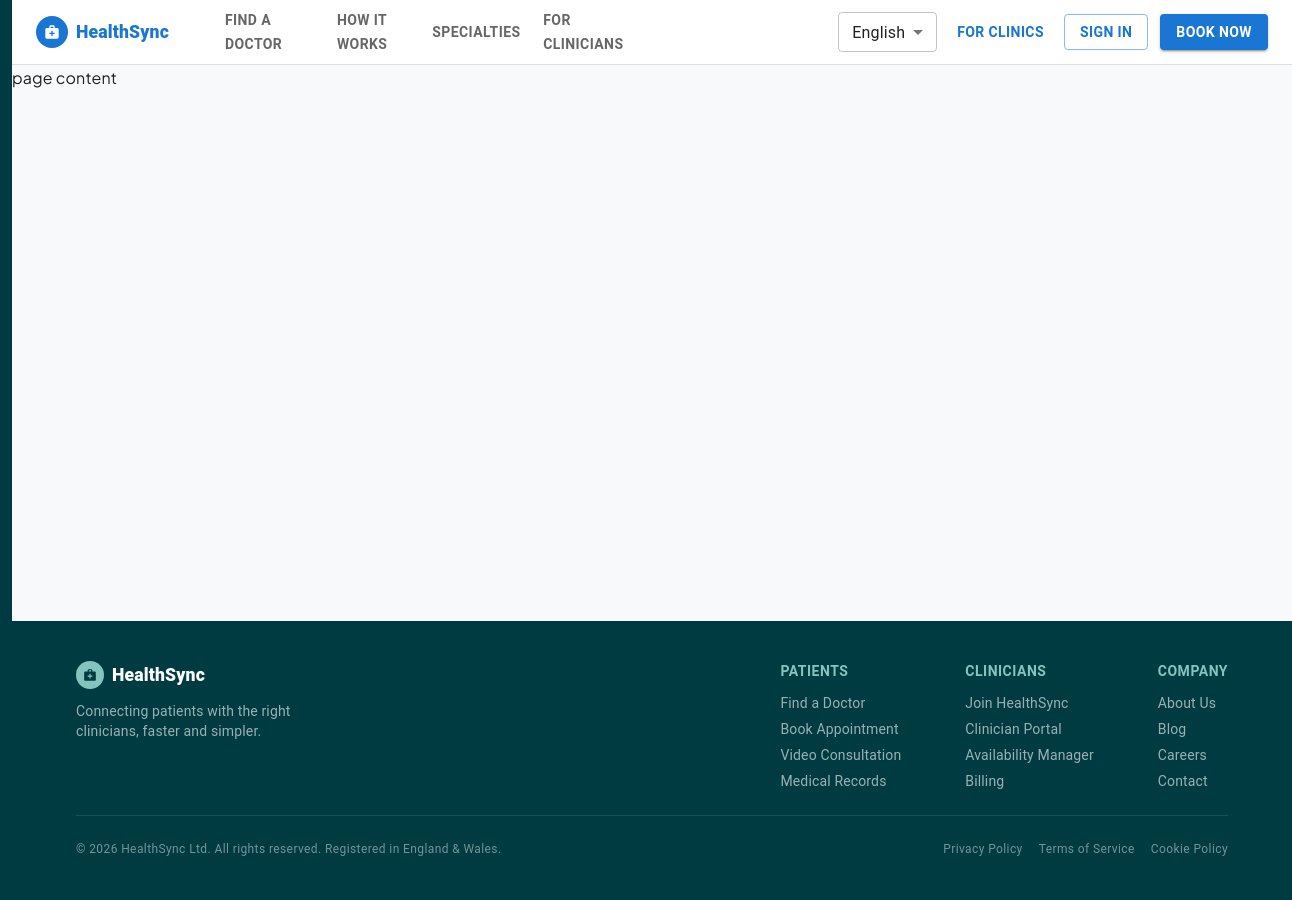
Test: PublicLayout — i18n (P1-07) › switching to Hindi actually loads the real translation file and re-renders real Hindi text
Expected: the button "Sign In" is shown, [1064,14,1148,50]
Press the mouse on the dropdown at (879, 32), box [852,22,905,42]
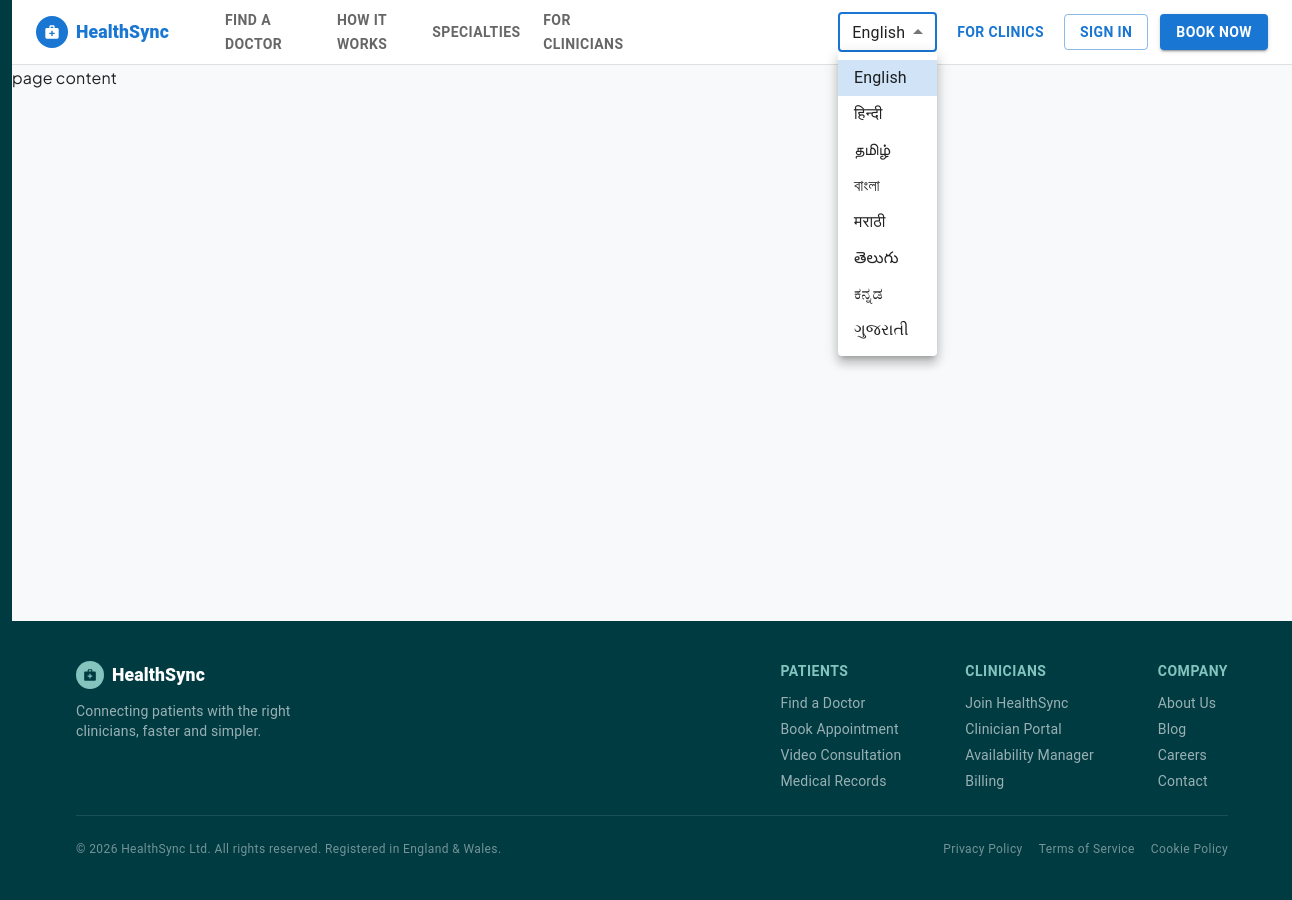
Click the option "हिन्दी" at (868, 114), box [854,104,882,123]
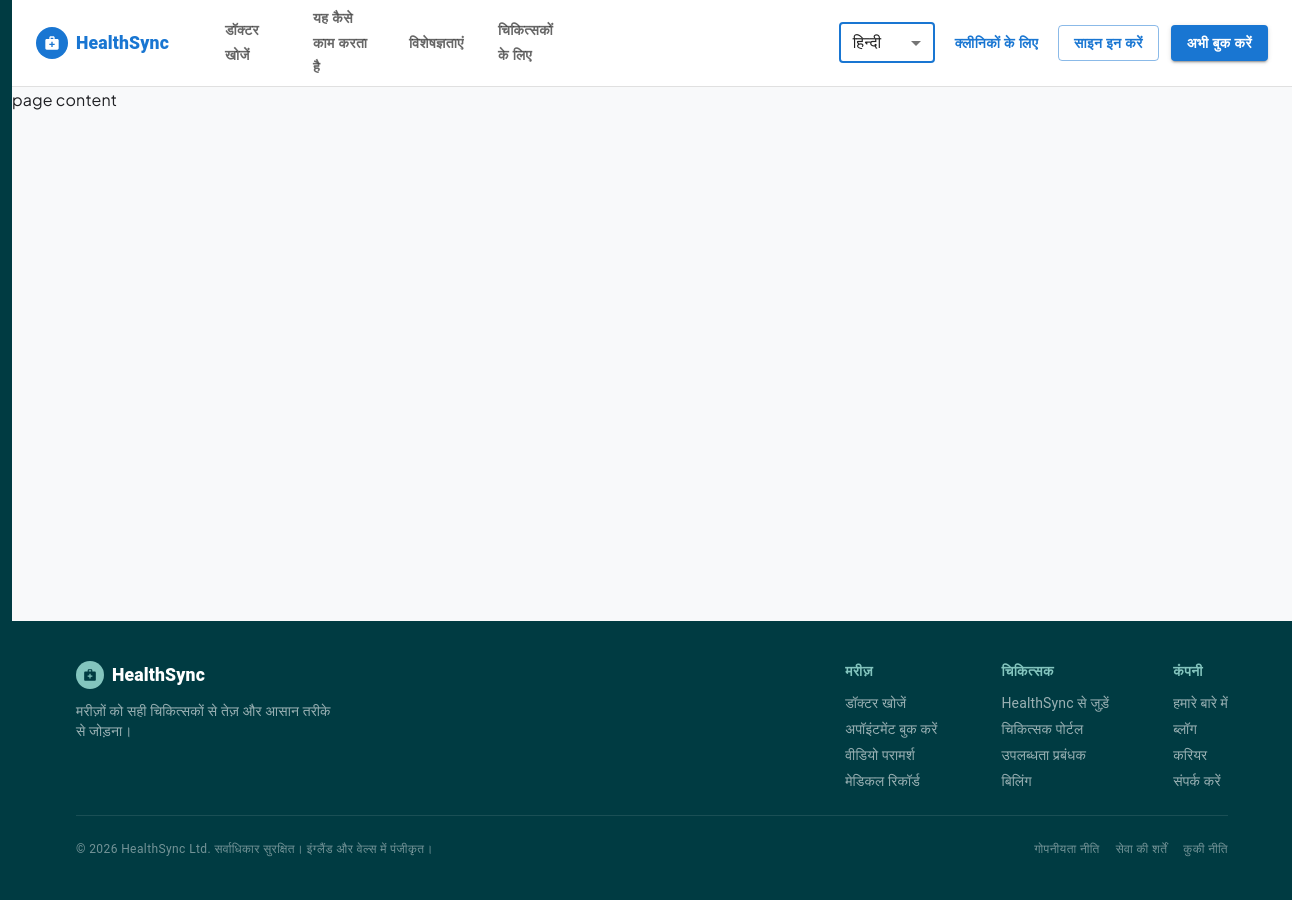
Expected: the button "साइन इन करें" is shown, [1058,24,1159,61]
Expected: the button "अभी बुक करें" is shown, [1171,24,1268,61]
